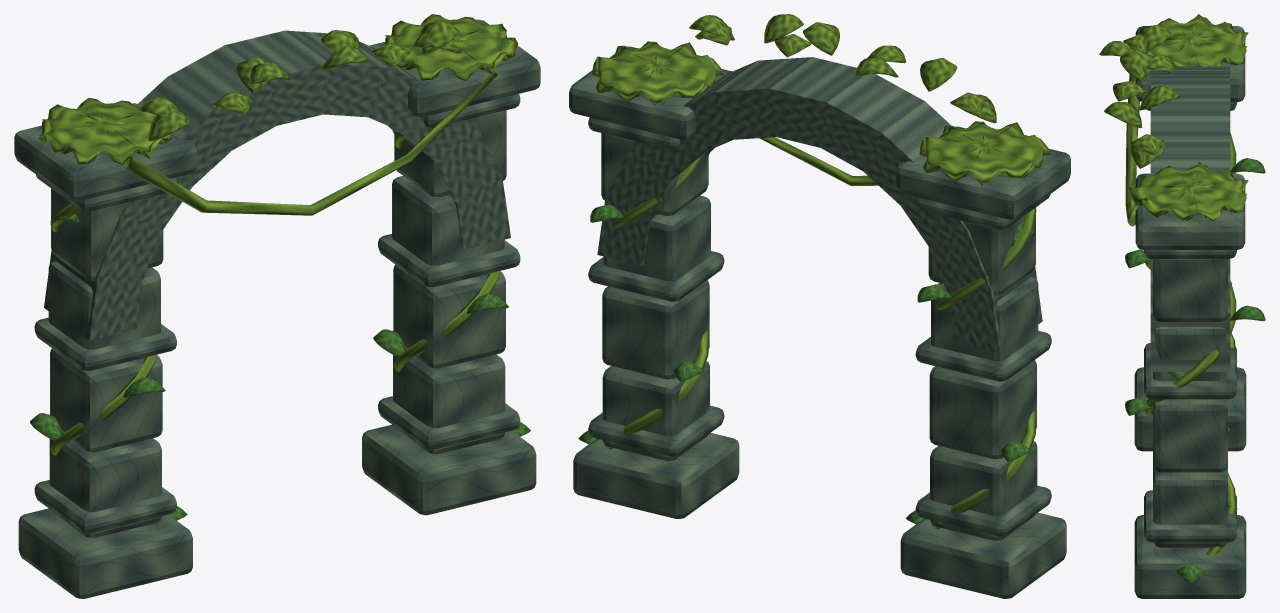
The model's file is ruined-gateway.glb.
3 views of the same model, side by side, from view 1: azimuth 30°, elevation 25°; view 2: azimuth 150°, elevation 25°; view 3: azimuth 270°, elevation 25° (orthographic). The views are drawn at different scales.
Parts seen in each view (by area): view 1: ruined-gateway_stone, ruined-gateway_moss, ruined-gateway_leaf; view 2: ruined-gateway_stone, ruined-gateway_moss, ruined-gateway_leaf; view 3: ruined-gateway_stone, ruined-gateway_moss, ruined-gateway_leaf.
Part boxes in pixels (x1,y1,x2,y2): ruined-gateway_stone: [14, 19, 540, 598]; ruined-gateway_moss: [38, 14, 518, 455]; ruined-gateway_leaf: [30, 135, 530, 520]; ruined-gateway_stone: [569, 46, 1070, 598]; ruined-gateway_moss: [592, 14, 1050, 529]; ruined-gateway_leaf: [578, 153, 1033, 523]; ruined-gateway_stone: [1134, 26, 1246, 598]; ruined-gateway_moss: [1099, 14, 1248, 555]; ruined-gateway_leaf: [1125, 158, 1265, 583].
Size of the model in its own units: 2.99 by 2.89 by 1.
Materials: 3 (3 with a texture image).
